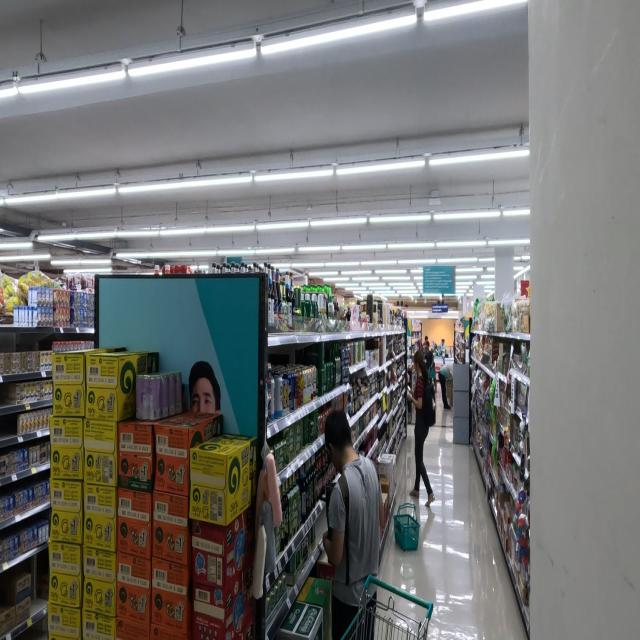shoplifting: (320, 399, 388, 640)
